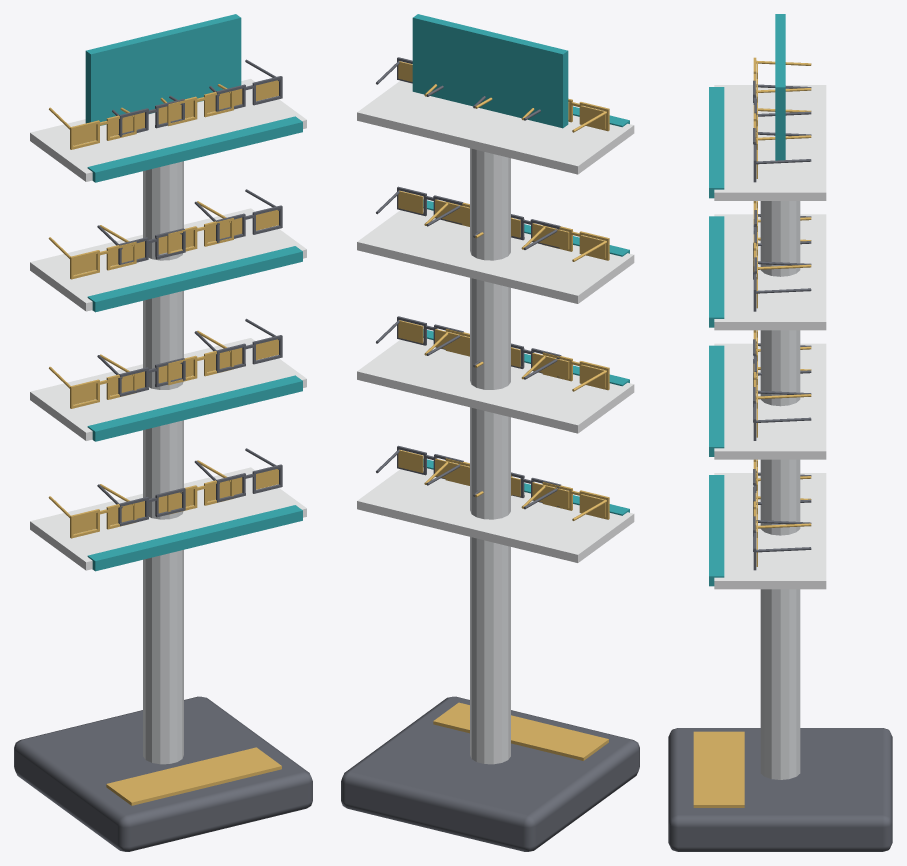
3 renders of one model, left to right at view 1: azimuth 30°, elevation 25°; view 2: azimuth 150°, elevation 25°; view 3: azimuth 270°, elevation 25°, orthographic.
Visible parts, largest first — view 1: sunglasses-stand; view 2: sunglasses-stand; view 3: sunglasses-stand.
Part boxes in pixels (x1,y1,x2,y2): sunglasses-stand: (14,14,312,851); sunglasses-stand: (341,14,639,851); sunglasses-stand: (668,14,892,851).
Size of the model in its own units: 0.5 by 1.64 by 0.4399.
